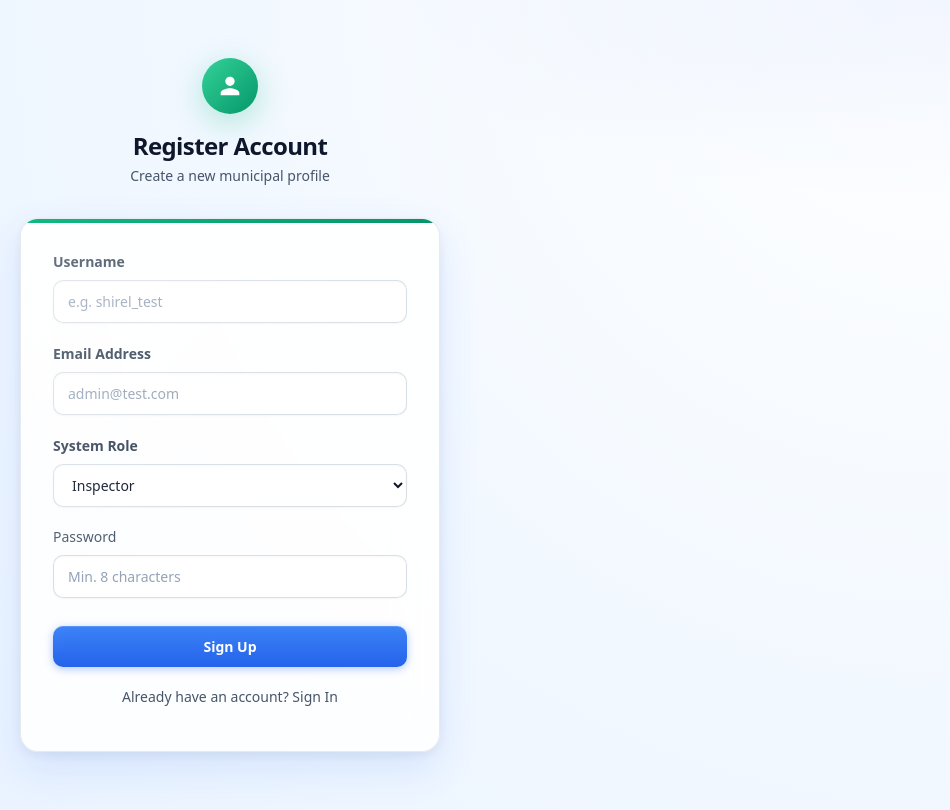
authentication flows › validates registration passwords before sending the request
The image size is (950, 810).
Type "Ada" into the field with placeholder "e.g. shirel_test".
click(230, 302); type("Ada")  # box [53,280,407,323]
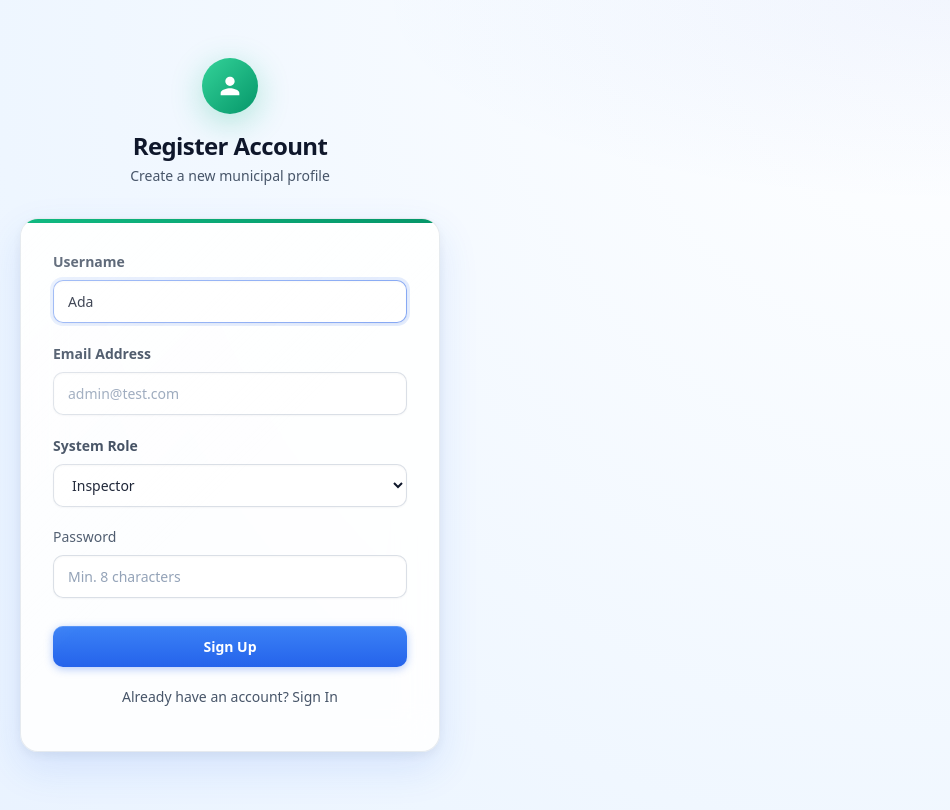
Type "ada@example.com" into the field with placeholder "admin@test.com".
click(230, 394); type("ada@example.com")  # box [53,372,407,415]
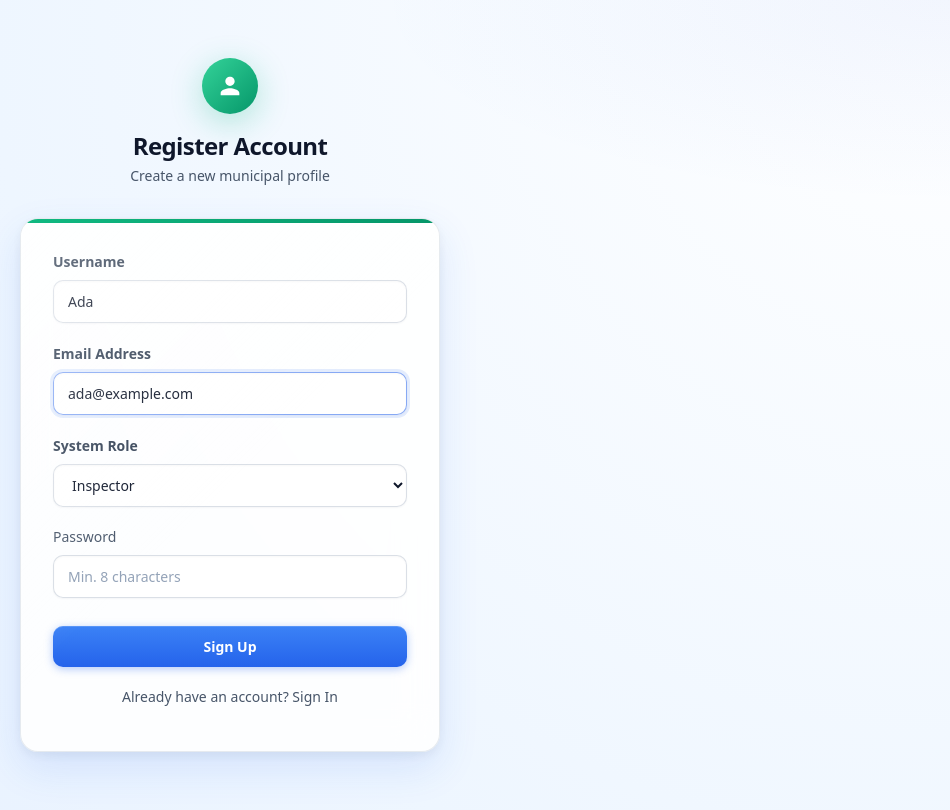
Type "short" into the password field labelled "Password".
click(230, 576); type("short")  # box [53,555,407,598]
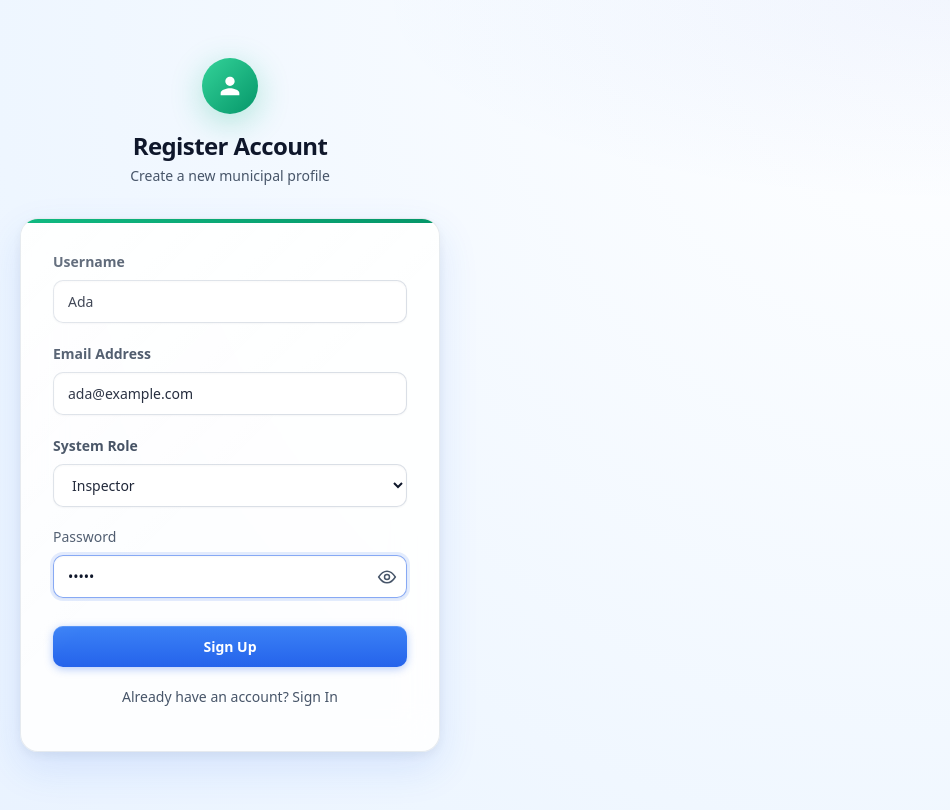
Click the button "Sign Up".
click(230, 646)  # box [53,626,407,667]
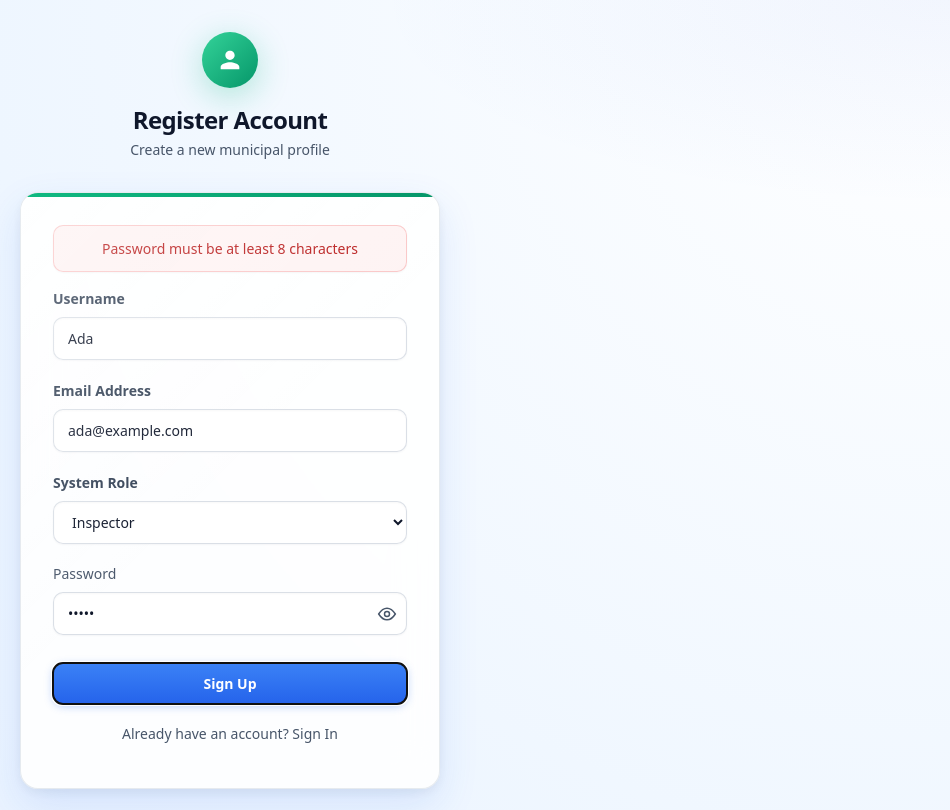
Expected: the text "Password must be at least 8 characters" is shown, [53,225,407,272]
